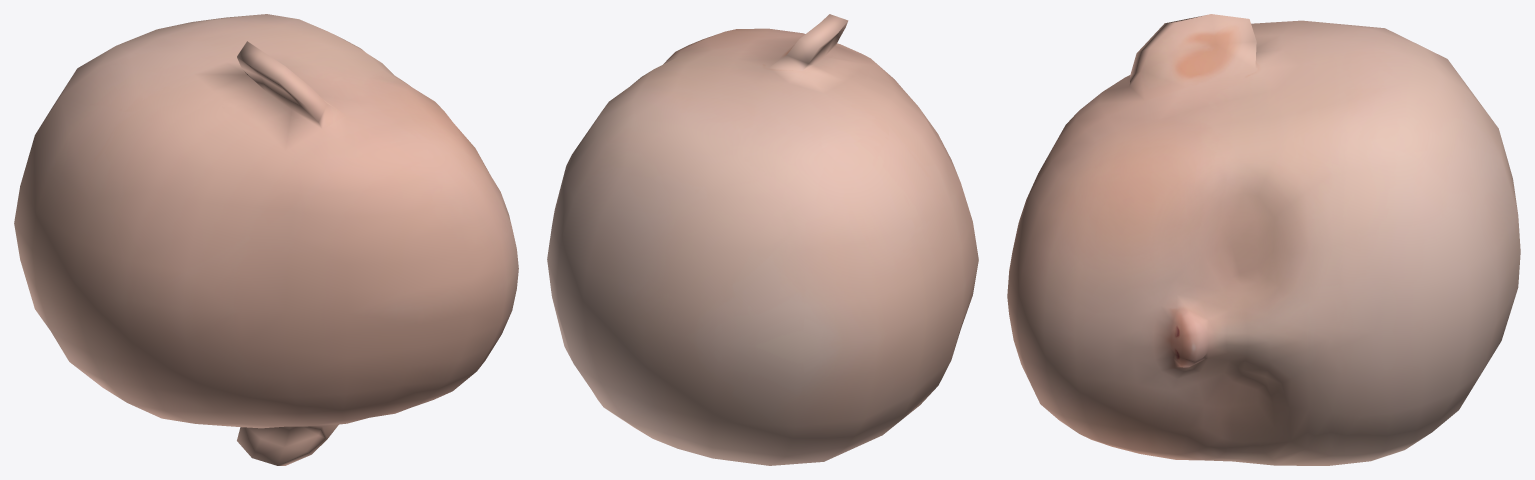
File: head_00_01_003.FBX
3 renders of one model, left to right at view 1: azimuth 30°, elevation 25°; view 2: azimuth 150°, elevation 25°; view 3: azimuth 270°, elevation 25°, orthographic. The views are drawn at different scales.
Visible parts, largest first — view 1: head_00_03_003; view 2: head_00_03_003; view 3: head_00_03_003.
Part boxes in pixels (<box>): head_00_03_003: <box>14,14,518,465</box>; head_00_03_003: <box>547,14,978,465</box>; head_00_03_003: <box>1007,14,1520,465</box>.
Size of the model in its own units: 55.03 by 59.28 by 56.3.
